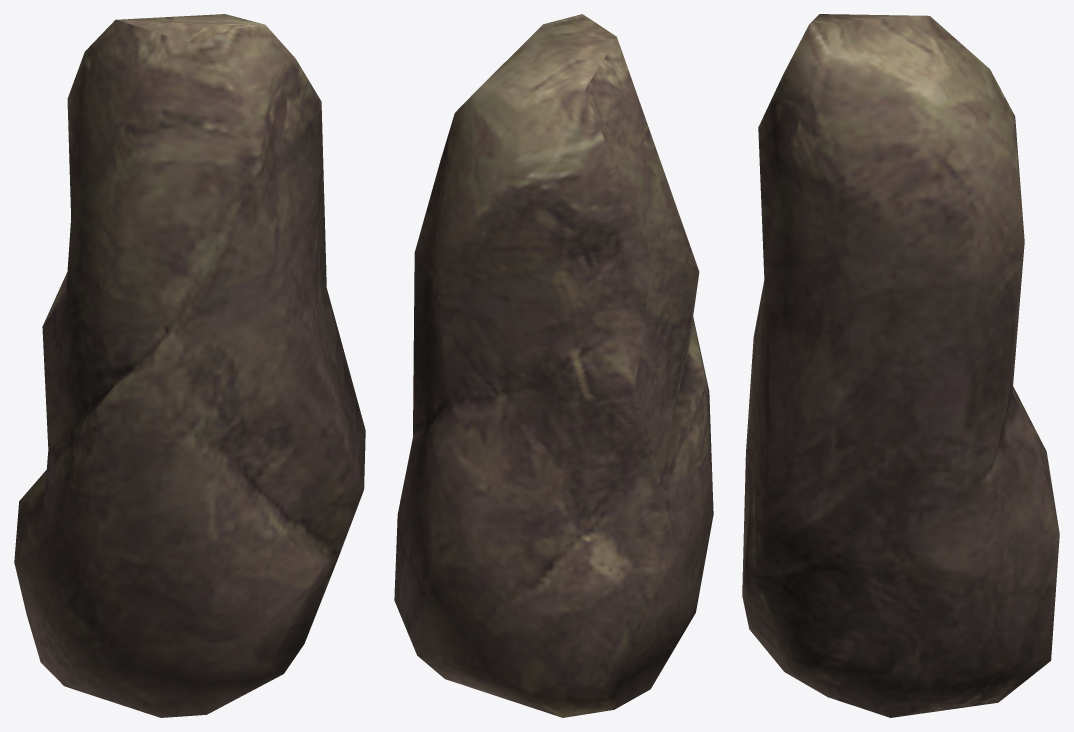
Rendered from stone_005.FBX.
3 views of the same model, side by side, from view 1: azimuth 30°, elevation 25°; view 2: azimuth 150°, elevation 25°; view 3: azimuth 270°, elevation 25° (orthographic). The views are drawn at different scales.
Visible parts, largest first — view 1: stone_005_01; view 2: stone_005_01; view 3: stone_005_01.
Boxes of the visible parts, x1,y1,x2,y2 form: stone_005_01: [14, 14, 365, 717]; stone_005_01: [394, 14, 713, 717]; stone_005_01: [742, 14, 1059, 717].
Size of the model in its own units: 0.8664 by 1.95 by 0.8476.
